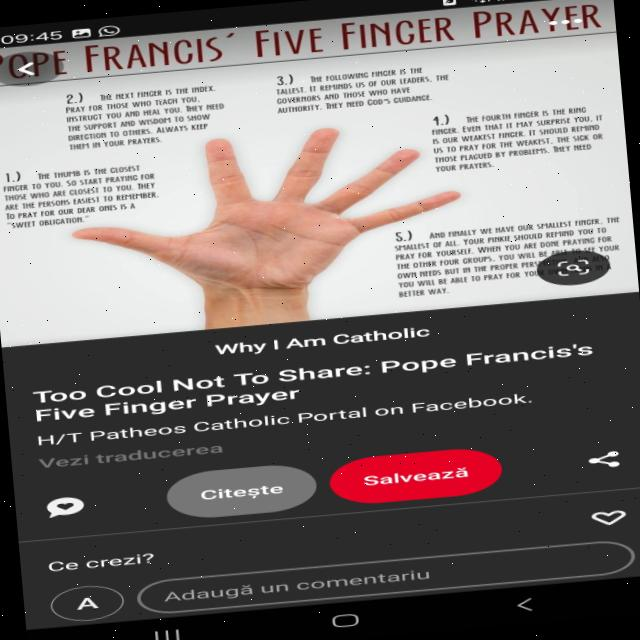hands: (22, 95, 547, 338)
